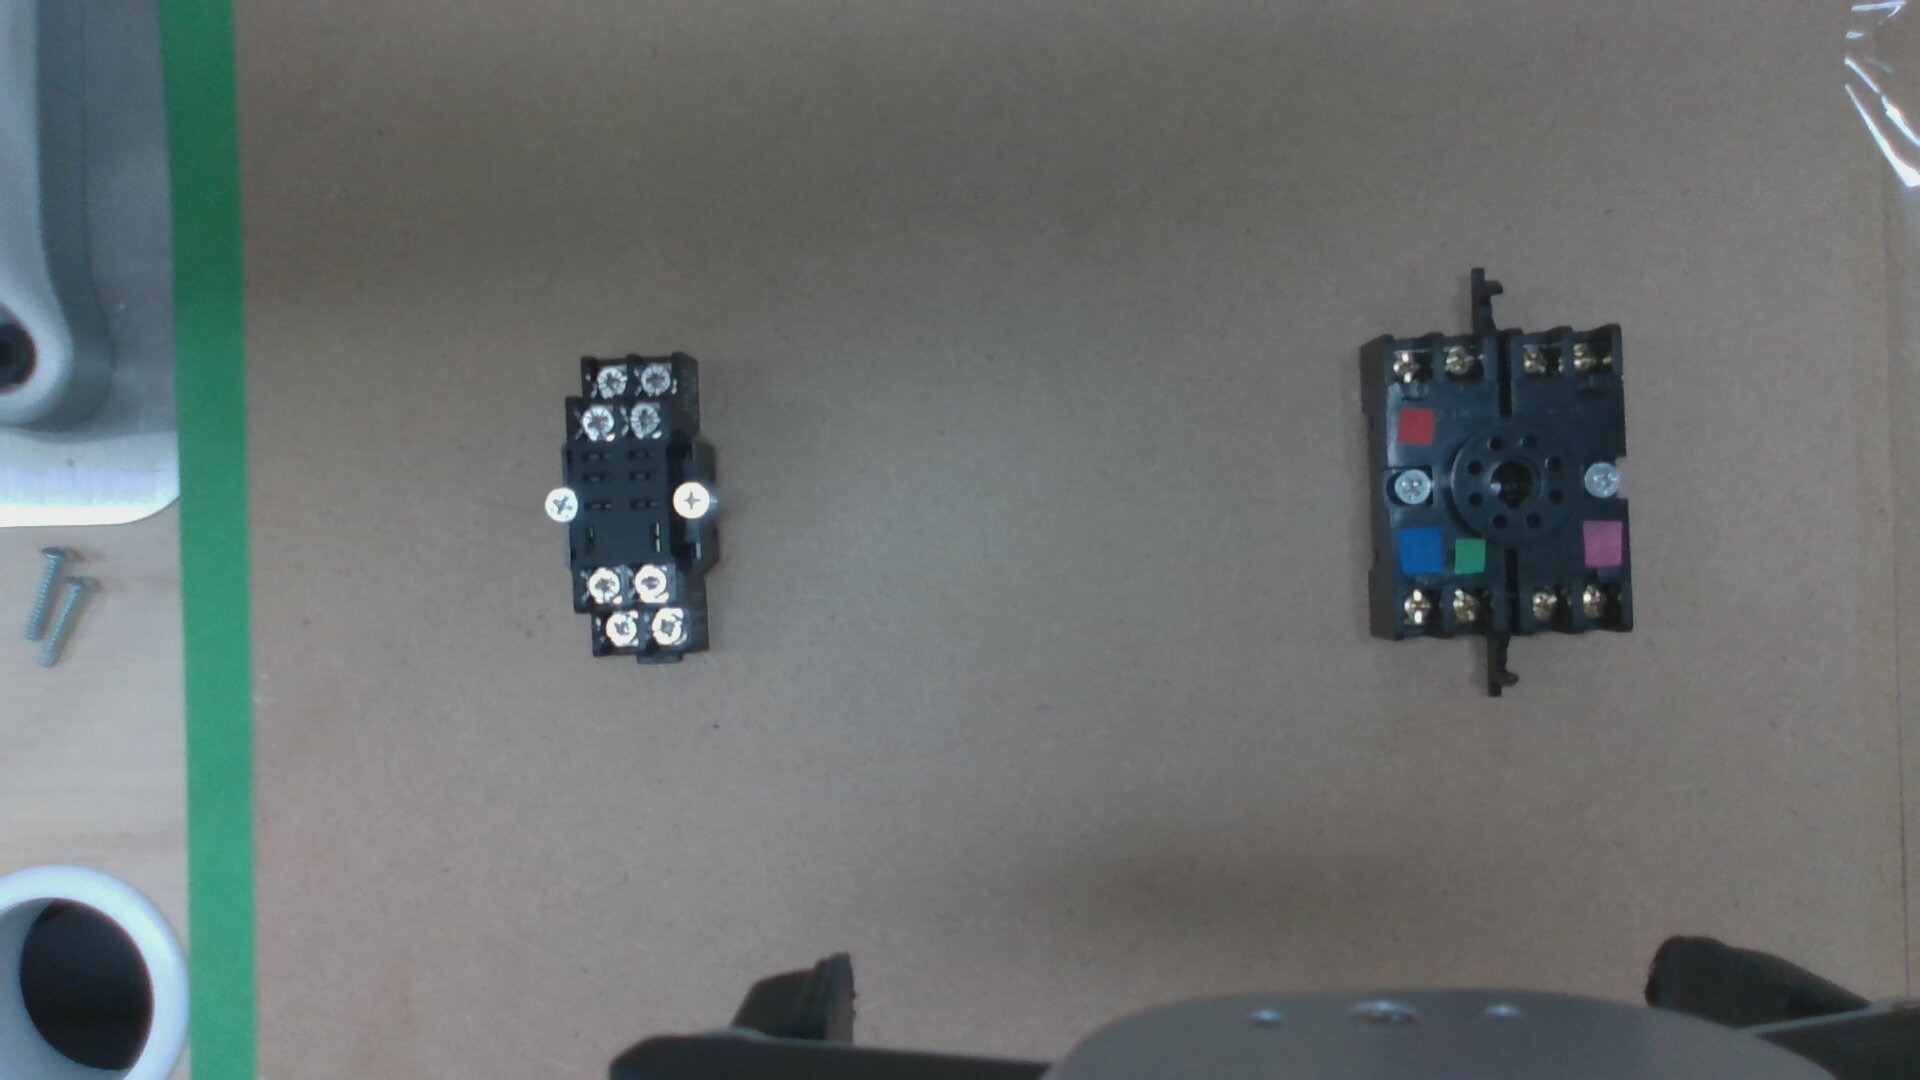relay 3: (636, 364, 669, 393)
relay 4: (589, 371, 624, 394)
relay 5: (650, 611, 683, 641)
relay 6: (600, 615, 634, 644)
relay 7: (633, 568, 665, 597)
relay 8: (583, 571, 618, 600)
